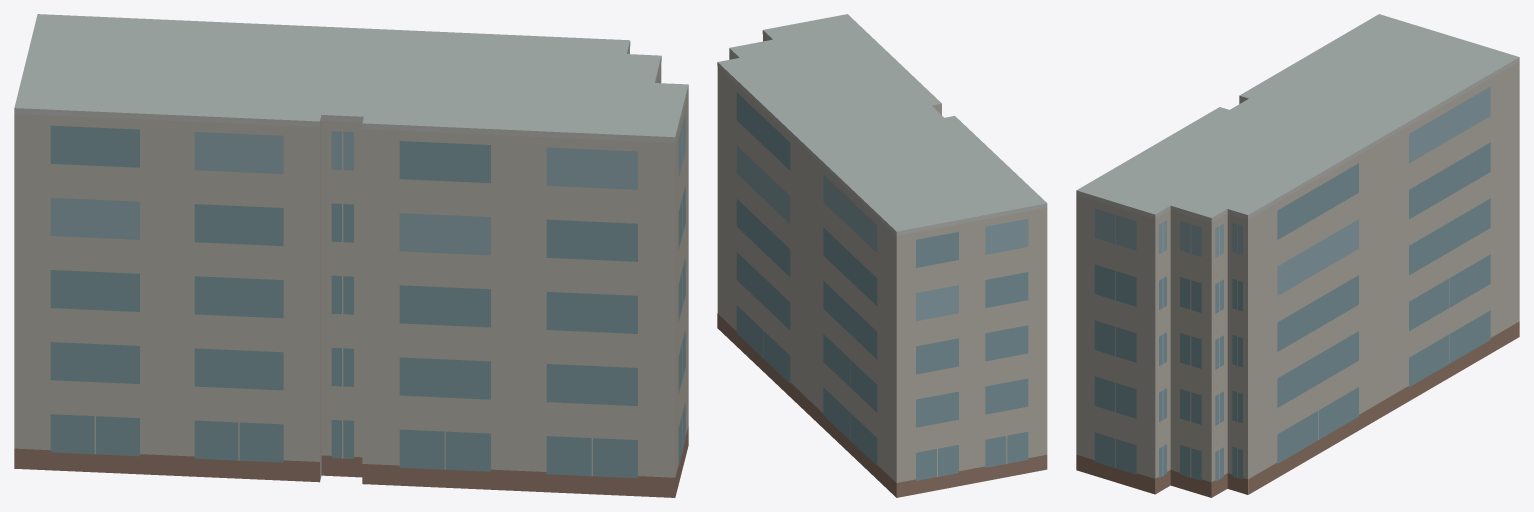
The model's file is survey-upis-32537712.glb.
3 renders of one model, left to right at view 1: azimuth 30°, elevation 25°; view 2: azimuth 150°, elevation 25°; view 3: azimuth 270°, elevation 25°, orthographic. The views are drawn at different scales.
Visible parts, largest first — view 1: survey-upis-32537712.tmp; view 2: survey-upis-32537712.tmp; view 3: survey-upis-32537712.tmp.
Boxes of the visible parts, x1,y1,x2,y2 form: survey-upis-32537712.tmp: [14, 14, 688, 497]; survey-upis-32537712.tmp: [717, 14, 1047, 497]; survey-upis-32537712.tmp: [1076, 14, 1519, 497].
Size of the model in its own units: 23.86 by 15.25 by 21.9.
